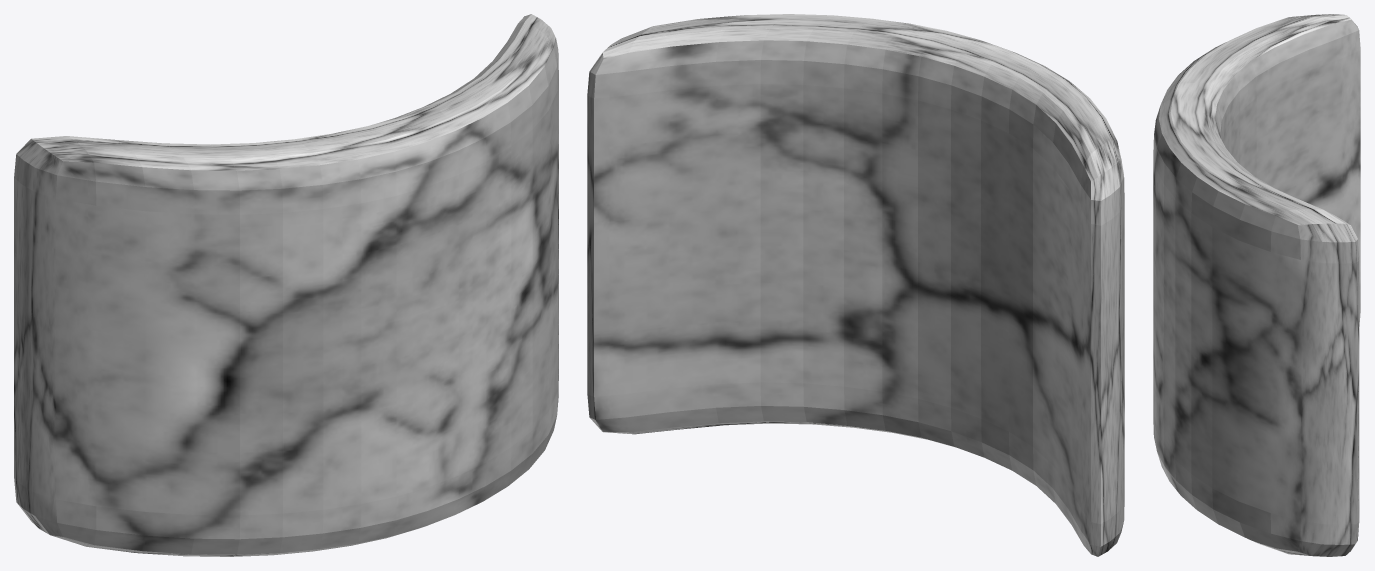
Rendered from TuongBang.glb.
3 views of the same model, side by side, from view 1: azimuth 30°, elevation 25°; view 2: azimuth 150°, elevation 25°; view 3: azimuth 270°, elevation 25° (orthographic). The views are drawn at different scales.
Parts seen in each view (by area): view 1: tuong bang; view 2: tuong bang; view 3: tuong bang.
Boxes of the visible parts, x1=… form: tuong bang: x1=14, y1=14, x2=558, y2=556; tuong bang: x1=587, y1=14, x2=1124, y2=556; tuong bang: x1=1153, y1=14, x2=1360, y2=556.
Size of the model in its own units: 5.01 by 3.69 by 1.99.
1 material, 1 textured.
